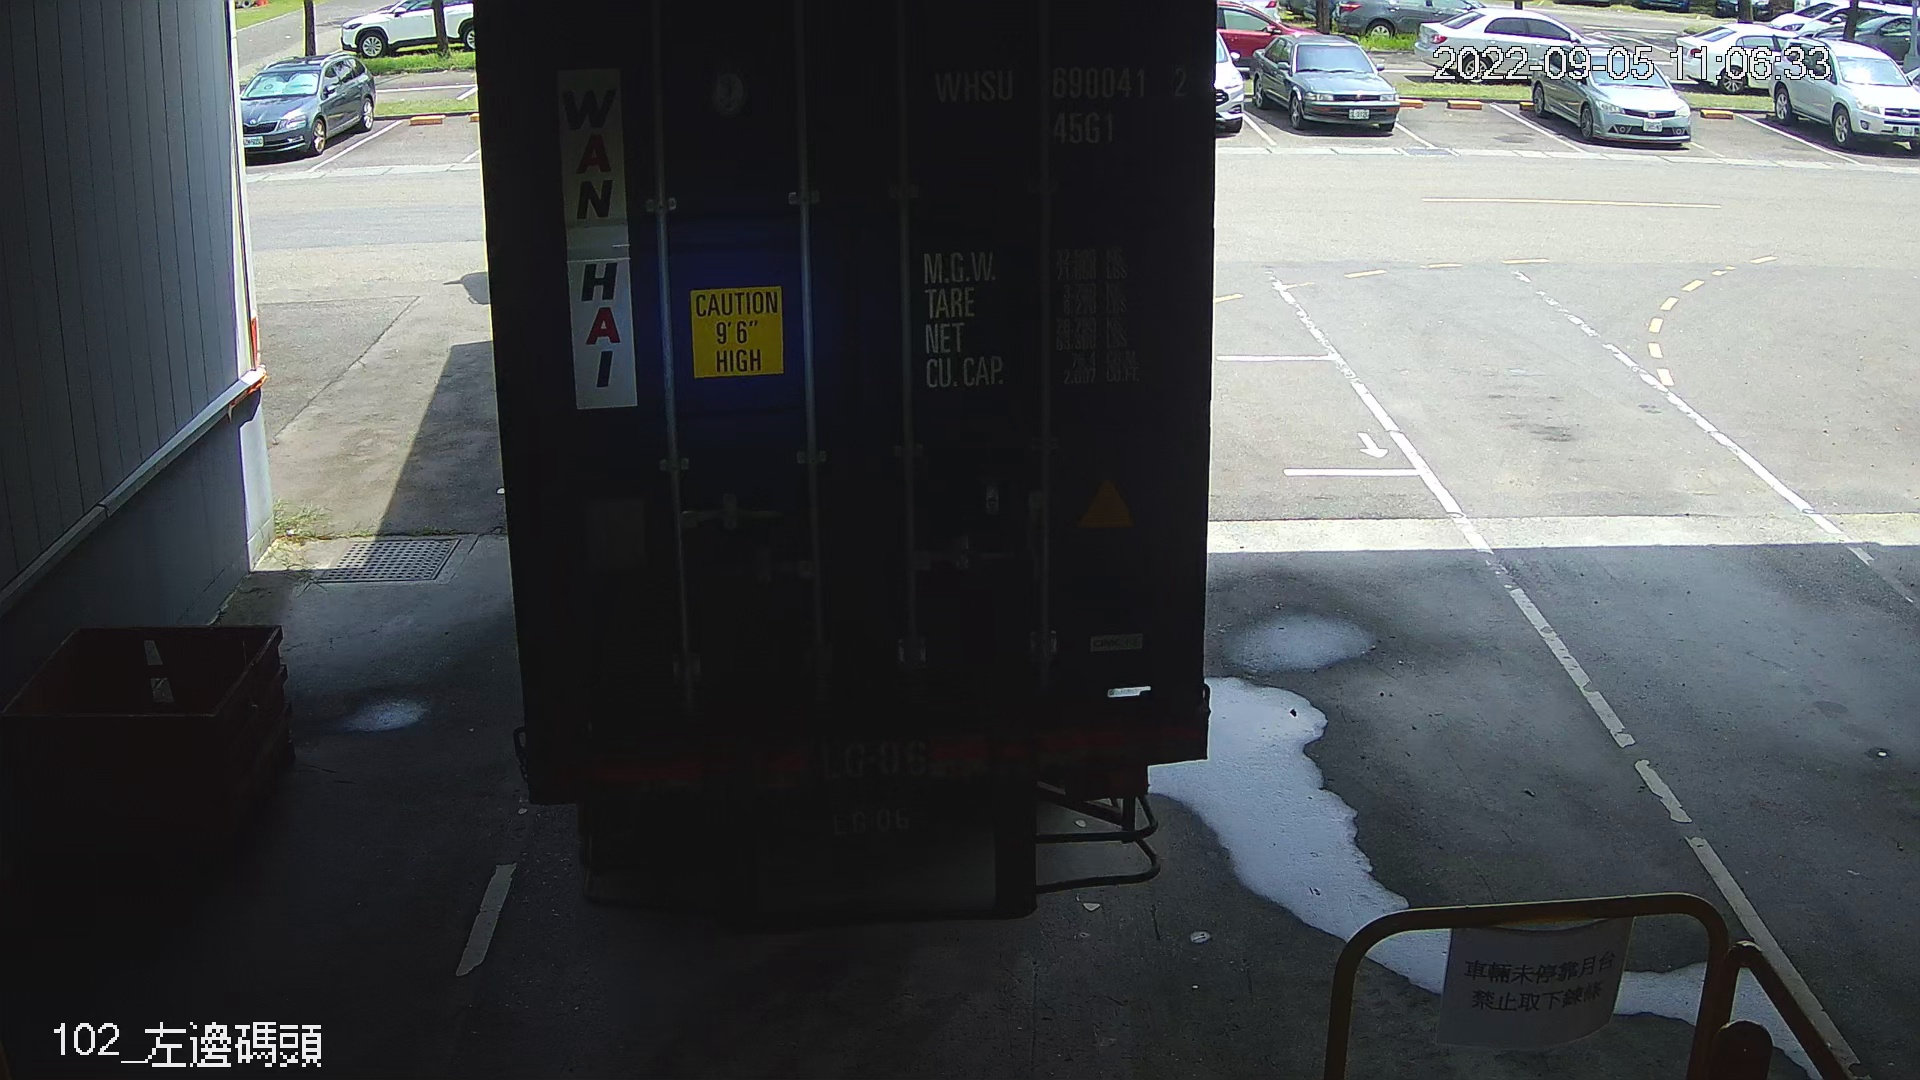container: (923, 49, 1197, 157)
